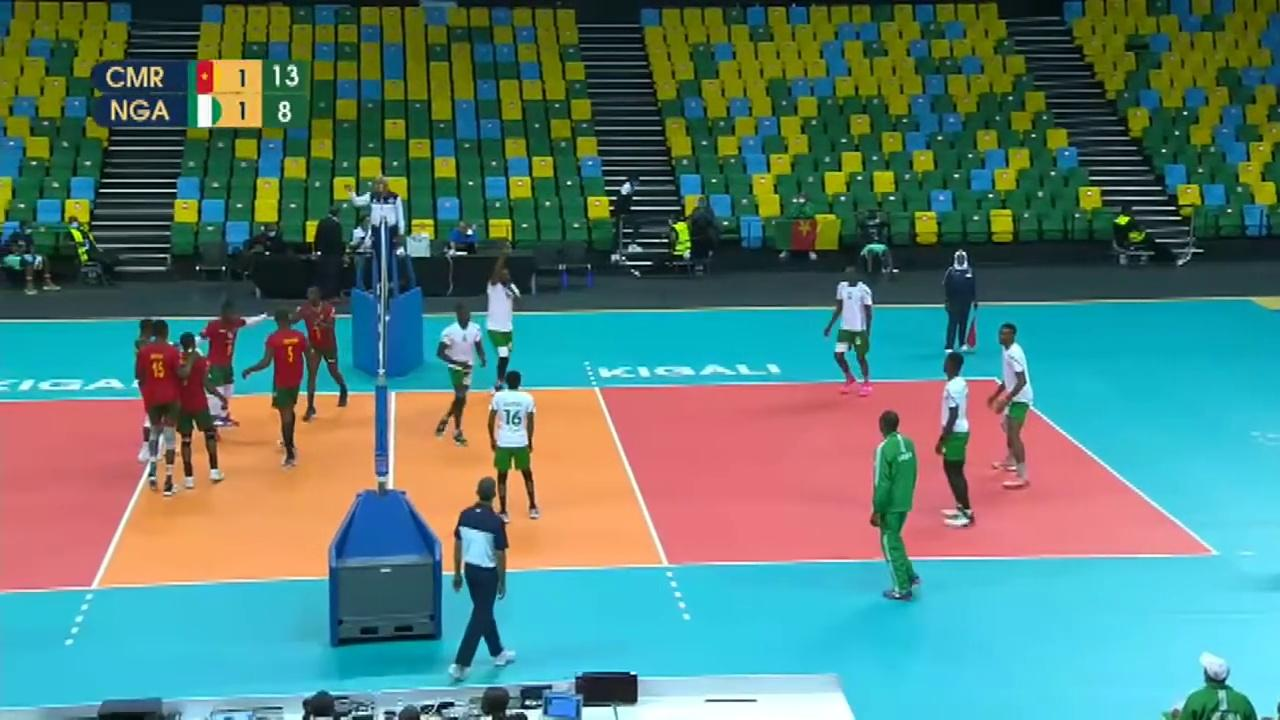player: (169, 333, 232, 497), (134, 325, 191, 489), (932, 350, 981, 534), (258, 312, 312, 474), (295, 284, 358, 418), (488, 371, 543, 519), (985, 327, 1033, 491), (201, 294, 258, 429), (434, 304, 486, 441), (479, 256, 524, 394), (827, 272, 876, 388), (131, 318, 165, 464)
refree: (449, 485, 518, 673), (356, 176, 411, 286), (941, 247, 977, 351)
